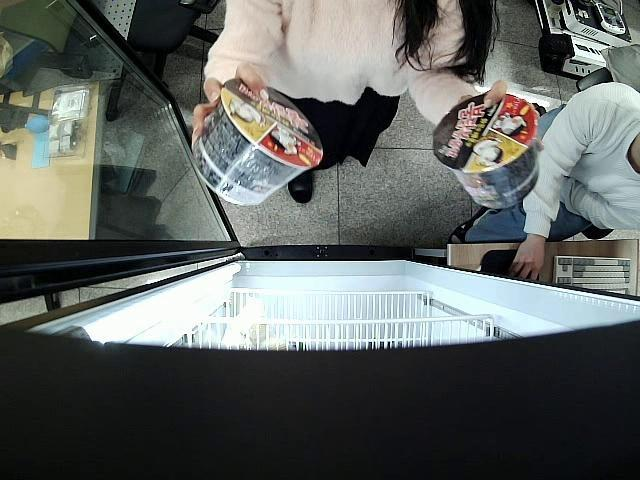07_buldak_L: (196, 78, 322, 208), (434, 94, 541, 208)
